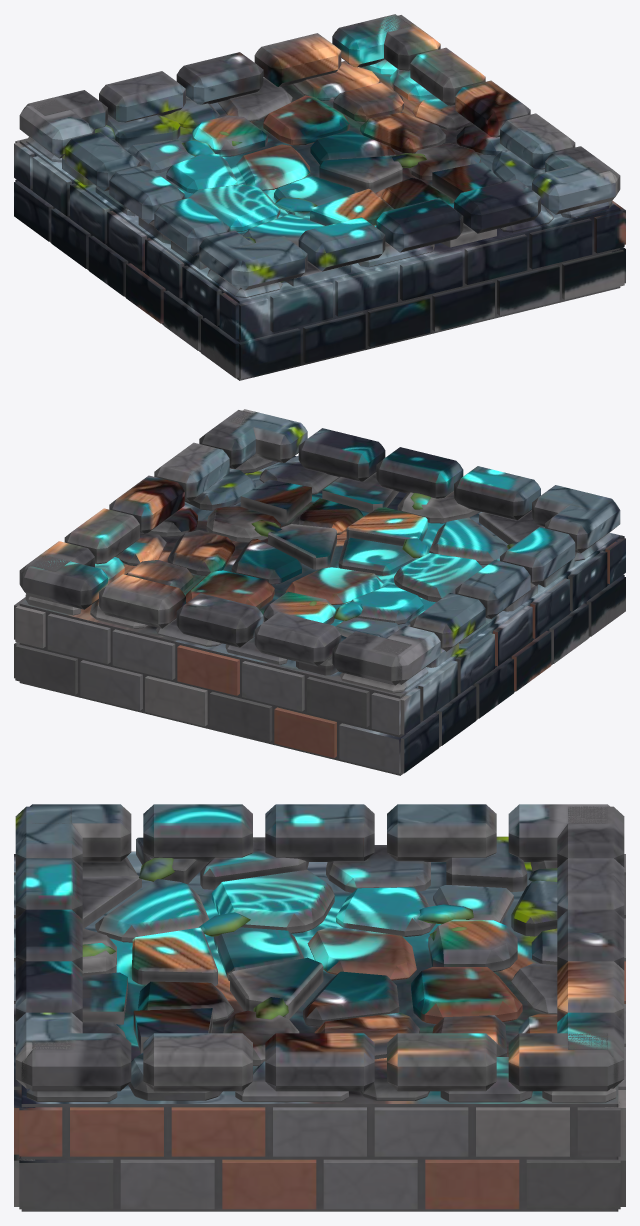
File: water_plate.glb
3 renders of one model, top to bottom at view 1: azimuth 30°, elevation 25°; view 2: azimuth 150°, elevation 25°; view 3: azimuth 270°, elevation 25°, orthographic. The views are drawn at different scales.
Parts seen in each view (by area): view 1: water_plate; view 2: water_plate; view 3: water_plate.
Boxes of the visible parts, <box> form: water_plate: <box>14,14,625,380</box>; water_plate: <box>14,409,625,775</box>; water_plate: <box>14,804,625,1211</box>.
Size of the model in its own units: 2.01 by 0.57 by 2.01.
1 material, 1 textured.
